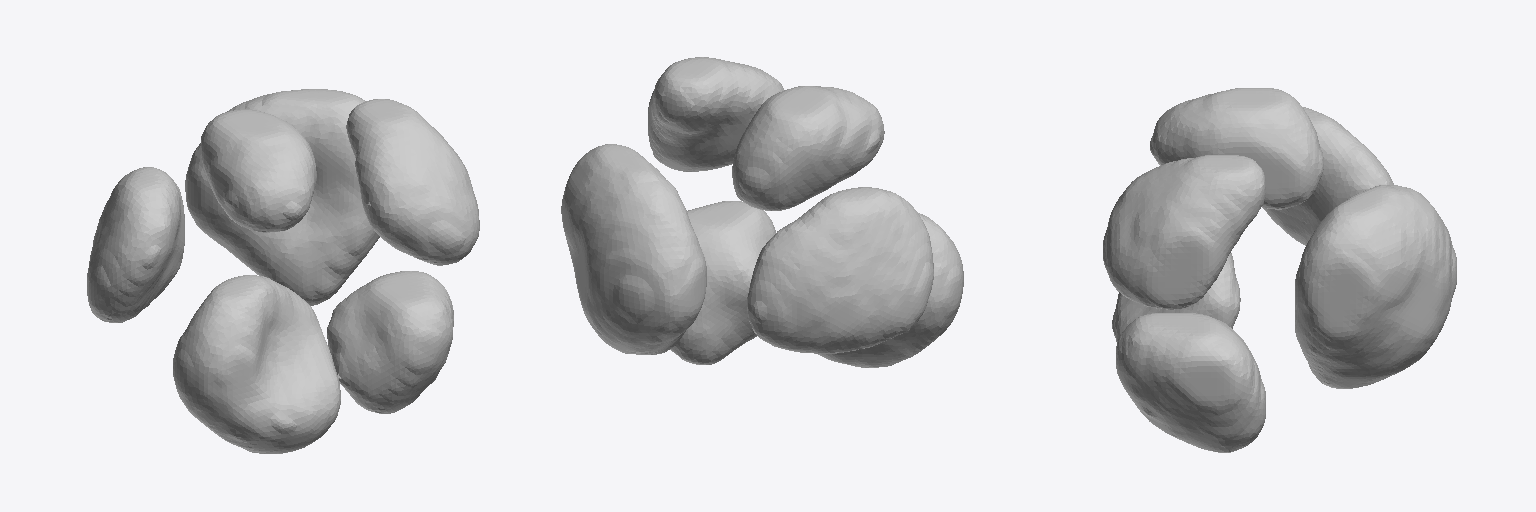
The model's file is iso-crop-mosaic_6.obj.
3 views of the same model, side by side, from view 1: azimuth 30°, elevation 25°; view 2: azimuth 150°, elevation 25°; view 3: azimuth 270°, elevation 25° (orthographic).
Visible parts, largest first — view 1: 1, 6, 3, 2, 4, 5; view 2: 4, 6, 5, 3, 2, 1; view 3: 6, 3, 2, 5, 4, 1.
Boxes of the visible parts, <box> form: 1: <box>173,275,340,453</box>; 6: <box>185,89,379,305</box>; 3: <box>346,99,479,265</box>; 2: <box>327,271,453,413</box>; 4: <box>87,167,184,322</box>; 5: <box>201,109,316,232</box>; 4: <box>747,187,933,353</box>; 6: <box>561,144,706,354</box>; 5: <box>732,86,884,210</box>; 3: <box>648,57,783,171</box>; 2: <box>670,201,775,364</box>; 1: <box>818,212,963,367</box>; 6: <box>1295,185,1456,388</box>; 3: <box>1103,155,1265,309</box>; 2: <box>1116,313,1265,452</box>; 5: <box>1150,88,1323,209</box>; 4: <box>1263,107,1393,245</box>; 1: <box>1112,253,1240,341</box>.
Size of the model in its own units: 57.27 by 50.6 by 54.68.